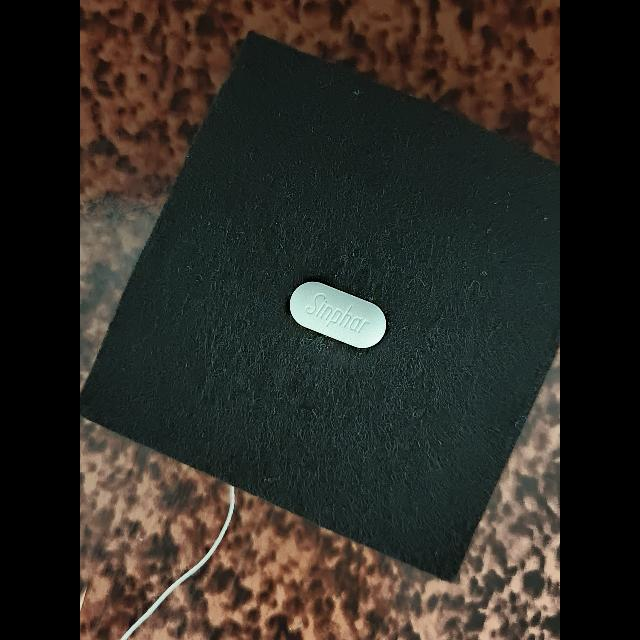Intact Pill: (290, 282, 386, 348)
